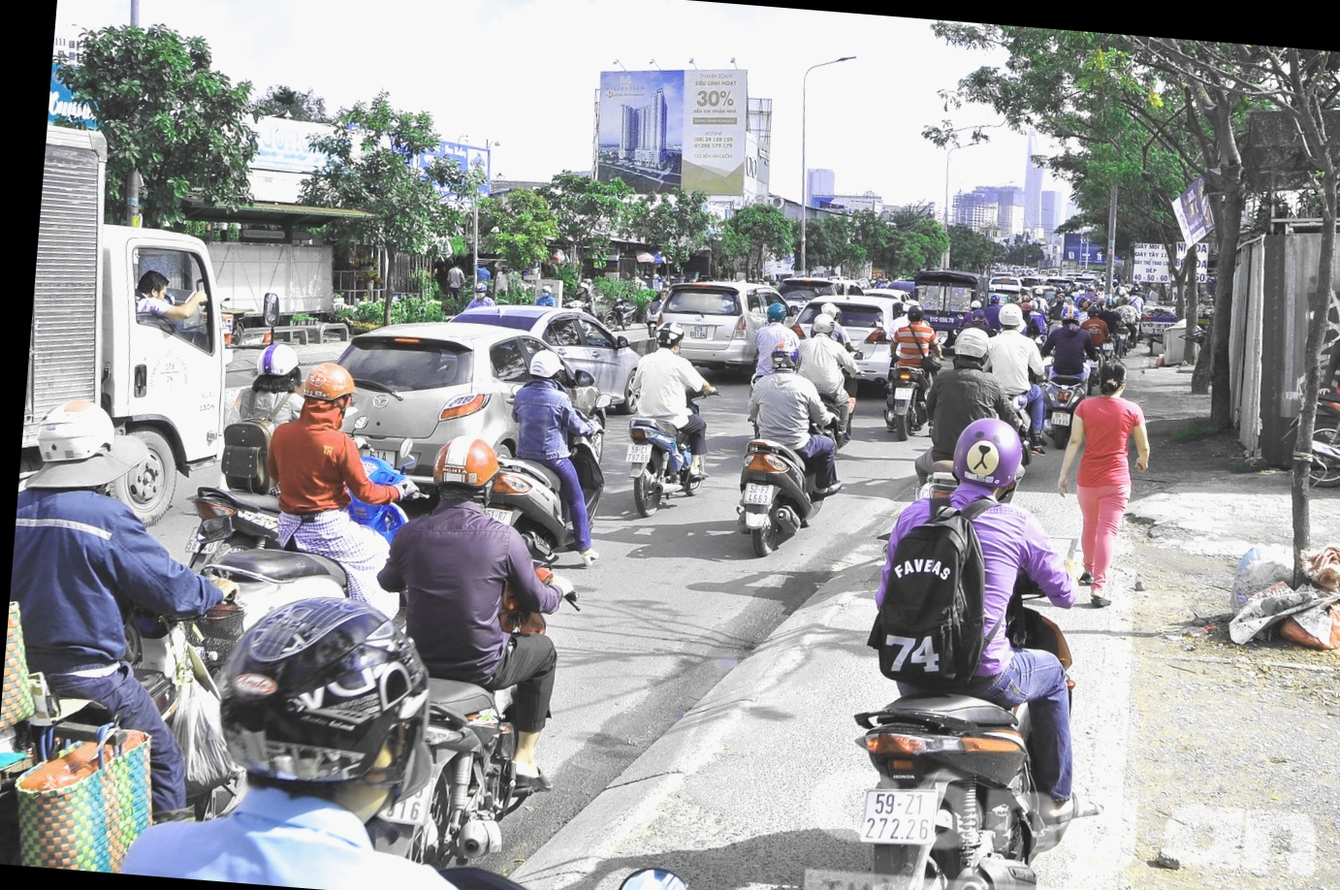Bien-so: (796, 742, 871, 806), (325, 729, 385, 779), (682, 441, 713, 467), (571, 404, 598, 427), (434, 464, 463, 485), (830, 348, 851, 364), (985, 374, 1004, 391)
